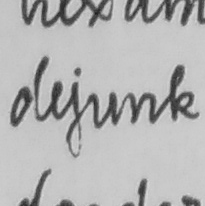d: (5, 52, 52, 130)
e: (47, 76, 66, 121)
j: (63, 79, 87, 160)
k: (165, 62, 202, 124)
n: (126, 88, 159, 126)
u: (88, 88, 120, 131)
